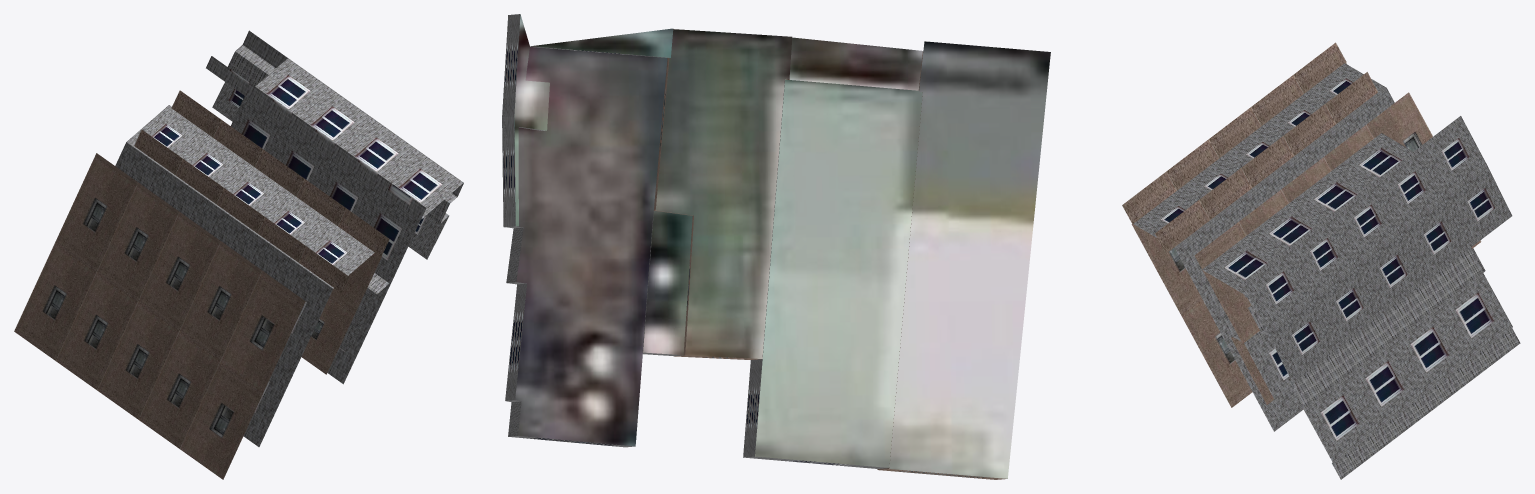
The picture shows the model from 3 angles, left to right: view 1: azimuth 30°, elevation 25°; view 2: azimuth 150°, elevation 25°; view 3: azimuth 270°, elevation 25°; orthographic projection. The views are drawn at different scales.
Bounding box in the file's own units: 26.58 × 22.29 × 25.17.
24 materials, 24 textured.
